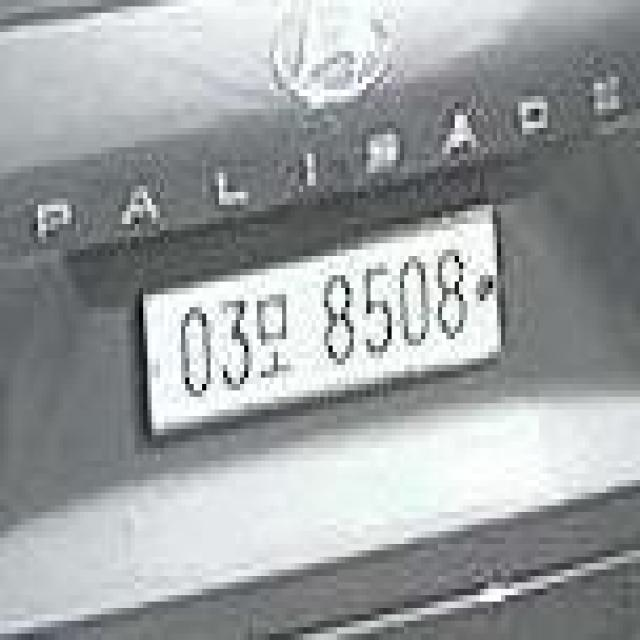illegal_plate: (135, 204, 508, 440)
